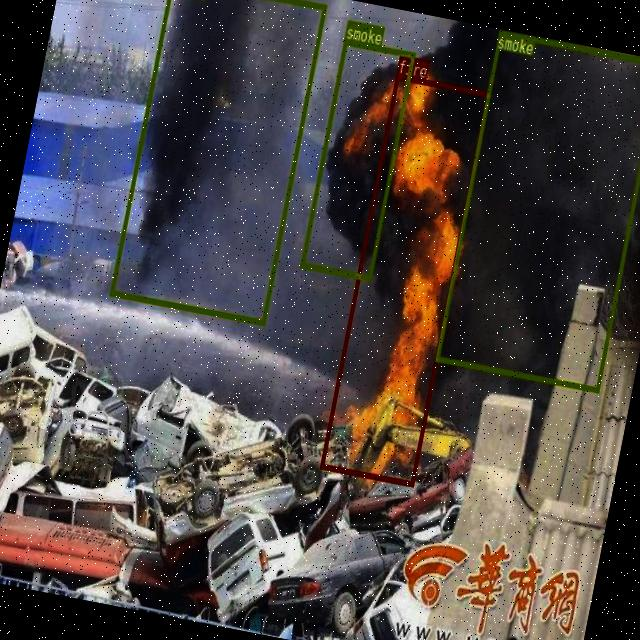fire: (320, 72, 490, 486)
smoke: (435, 29, 640, 391), (109, 0, 326, 325), (300, 38, 416, 280)
